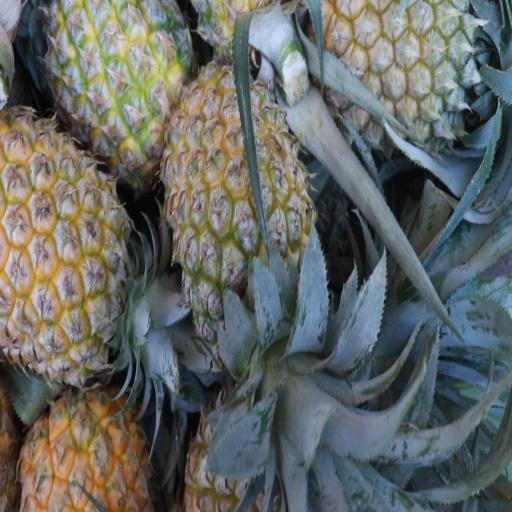------------------------------: (173, 71, 306, 322), (189, 398, 305, 512)
Pineapple - v8 v1: (0, 118, 145, 378), (44, 0, 186, 180), (17, 379, 156, 512)
